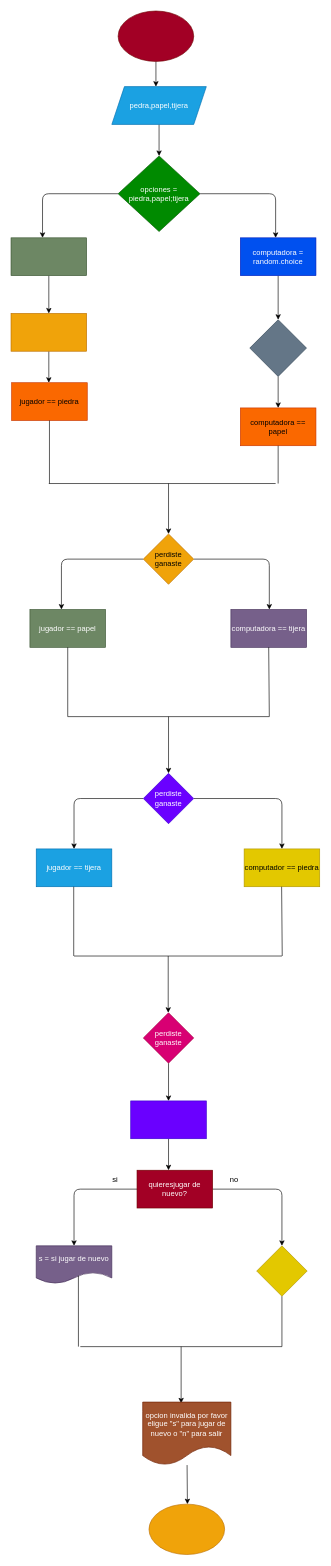
The diagram is 331 pixels wide and 1566 high, and some of its shapes have lost their labels. The centre of each missing label's shape, as x and y in pixels:
computadora eligio: point (277, 347)
FIN: point (186, 1529)
INICIO: point (155, 35)
jugador == computadora: point (48, 332)
jugador =elije piedra papel,tijera: point (48, 256)
n = no salir: point (281, 1270)
opcion no valida por favor digite piedra,papel,tijera: point (168, 1119)
